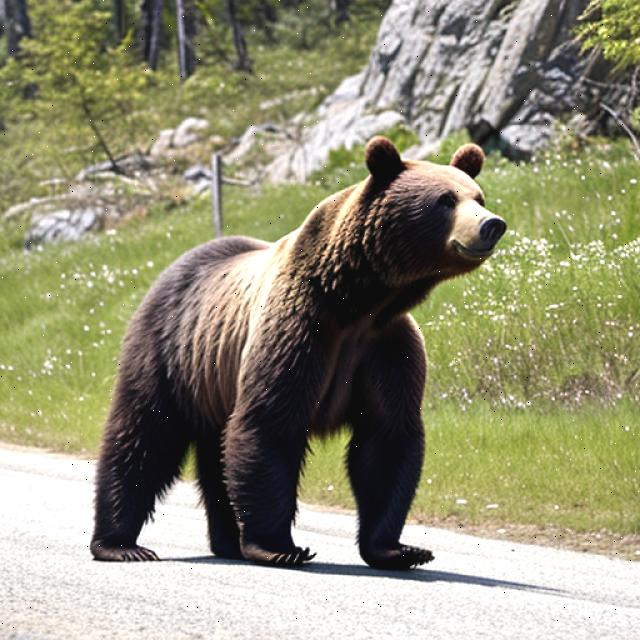bear: (329, 123, 518, 298)
